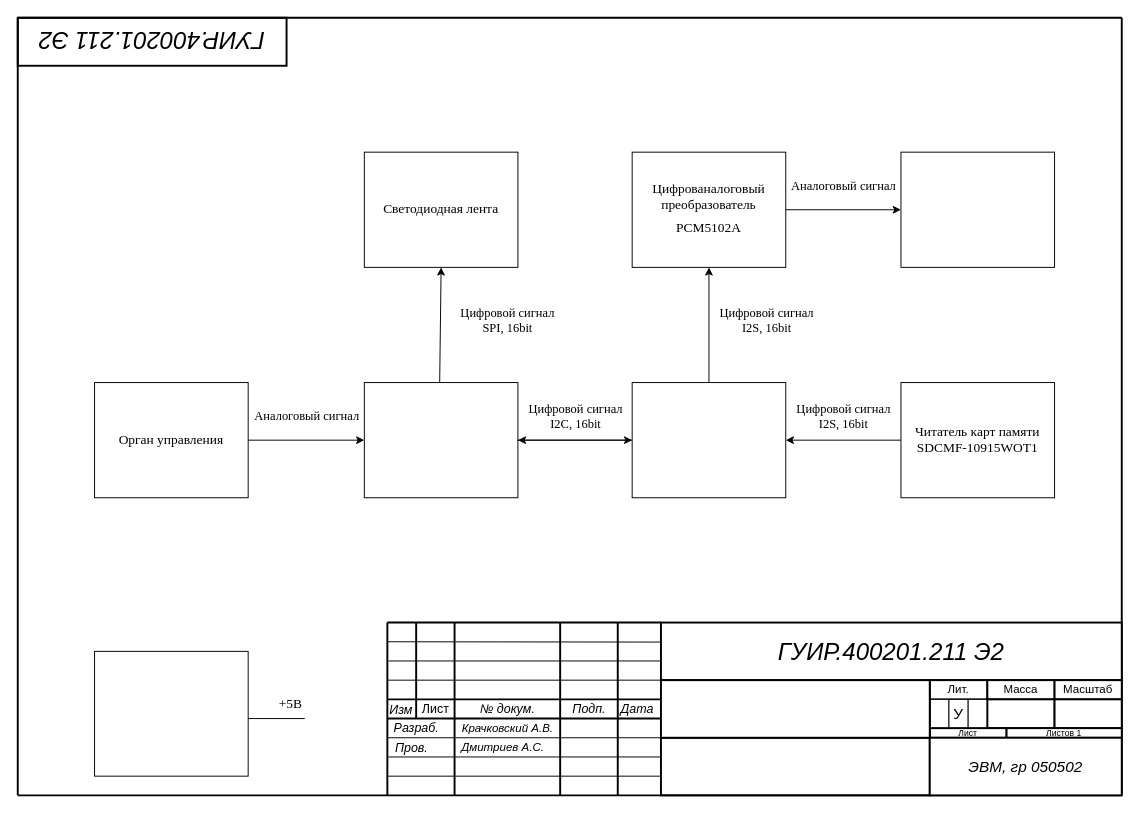
Some shapes in this 1140 by 813 pixel diagram are drawn without their labels. The shapes that lost their labels are listed below. From the top down, each one's centre as x and y in pixels, then its label:
At pixel 977 209: "Аудио адаптер ST214-C".
At pixel 440 440: "Микроконтроллер Arduino Uno".
At pixel 708 440: "Микроконтроллер ESP-32".
At pixel 171 713: "Блок питания".
At pixel 795 708: "Музыкальный пад Функциональная схема".
